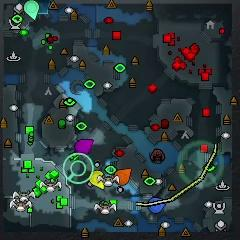p1: (149, 198, 167, 213)
p2: (24, 0, 40, 21)
p3: (75, 139, 93, 155)
p4: (90, 171, 106, 190)
p5: (113, 168, 131, 186)
